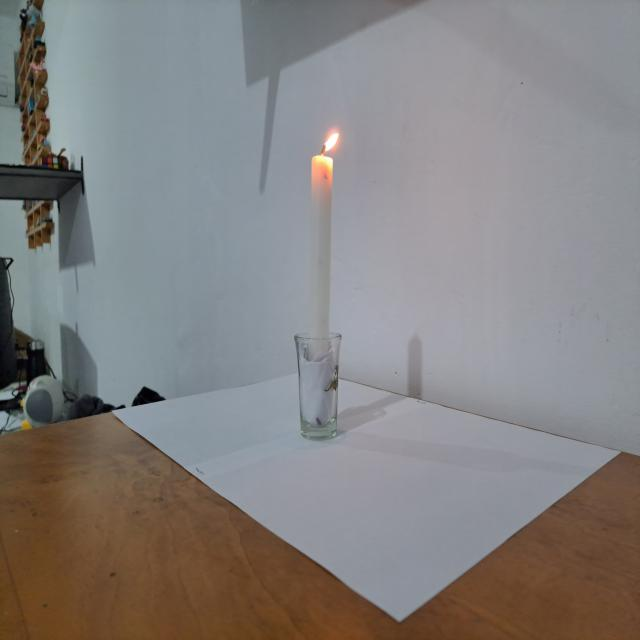candle: (294, 119, 348, 442)
